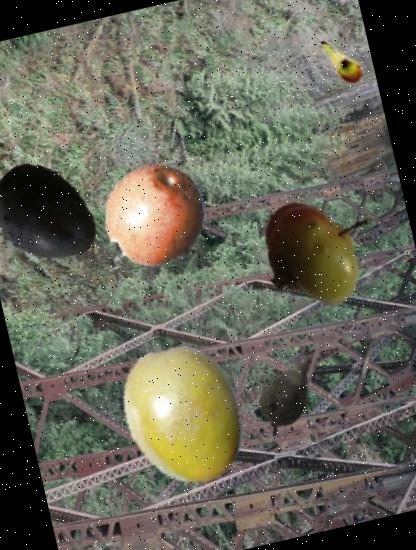Apple: (249, 178, 388, 317)
Banana: (306, 28, 374, 94)
Beetroot: (238, 341, 340, 444)
Granadilla: (81, 148, 221, 288)
Maracuja: (100, 329, 268, 498)
Plum: (0, 148, 112, 284)
